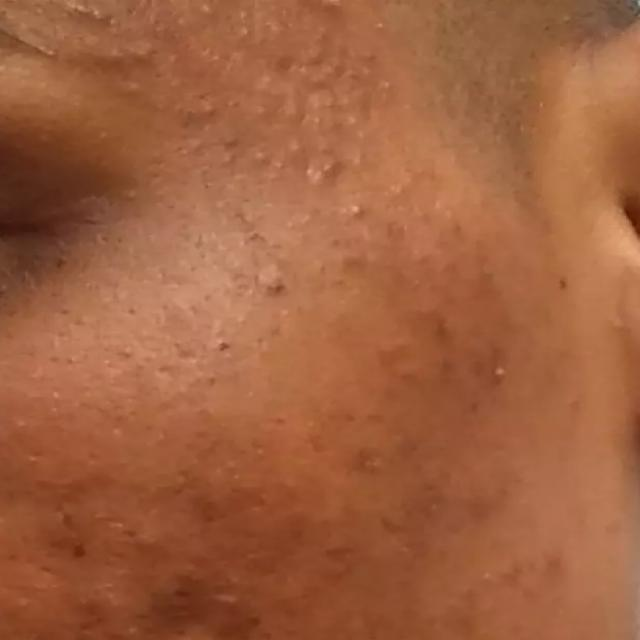blackhead: (214, 336, 232, 358), (267, 279, 288, 297)
fungal: (68, 3, 468, 232)
